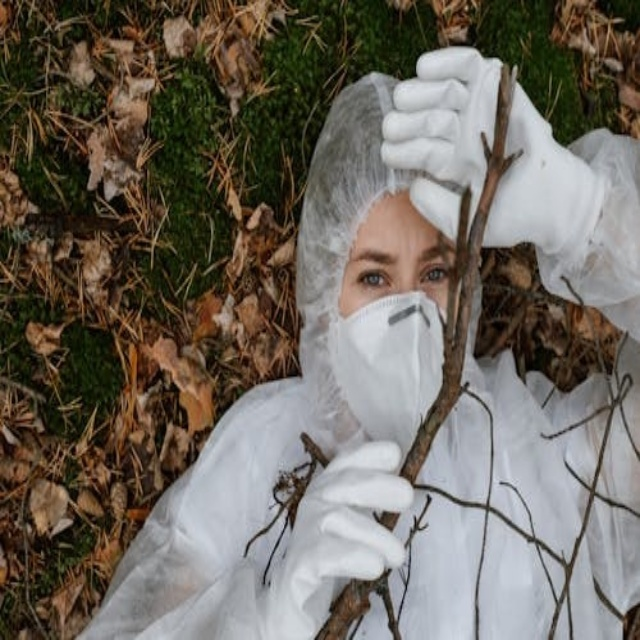Guantes: (382, 42, 612, 273), (252, 436, 413, 639)
Mascara: (327, 289, 451, 453)
Sin_gafas: (344, 244, 457, 296)
